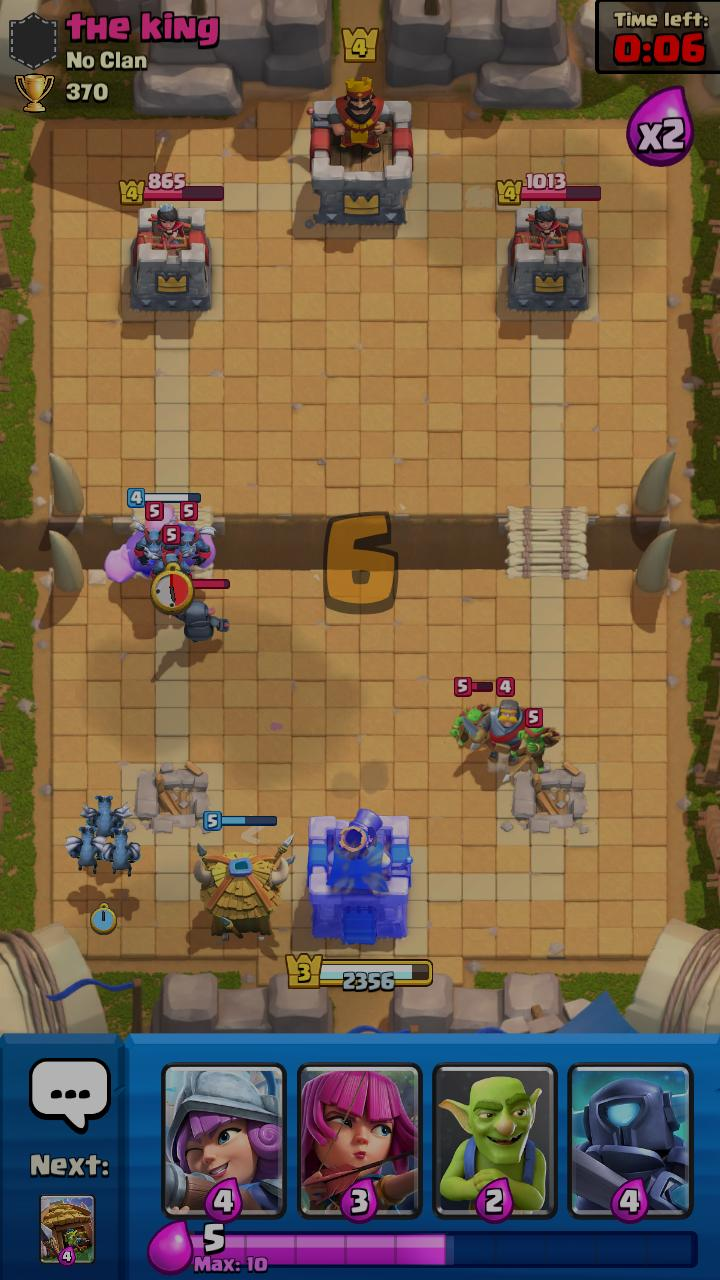ally: (193, 811, 296, 941), (104, 488, 217, 584), (79, 795, 133, 838), (64, 826, 106, 875), (100, 827, 141, 877)
enemy: (462, 677, 526, 766), (169, 579, 230, 643), (162, 501, 218, 566), (449, 677, 493, 751), (511, 708, 561, 772), (130, 501, 178, 566), (150, 525, 192, 581)
